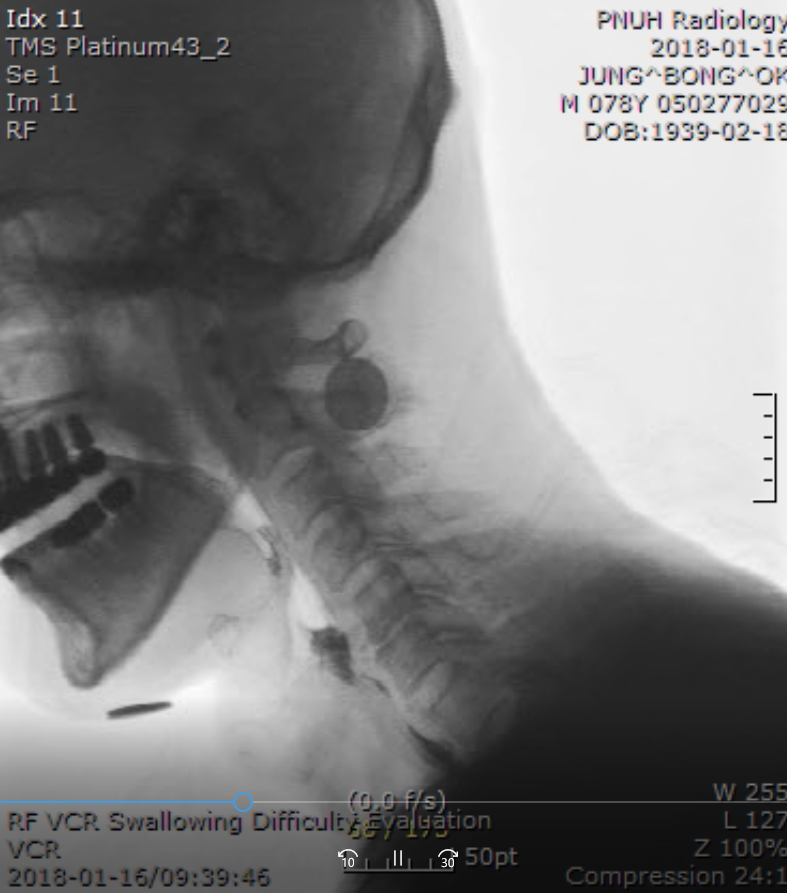dros: (274, 589, 346, 655)
food: (293, 617, 359, 695)
uros: (226, 527, 281, 580)
